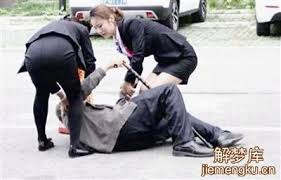fall: (59, 54, 246, 161)
